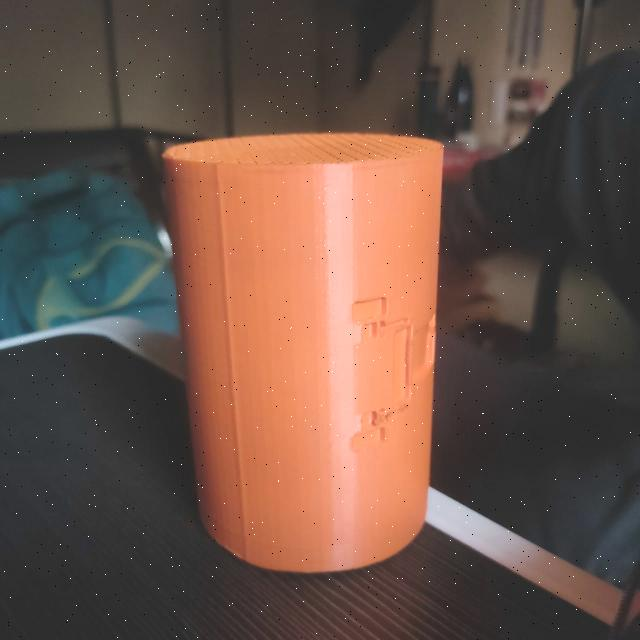Cylinder: (161, 130, 445, 573)
